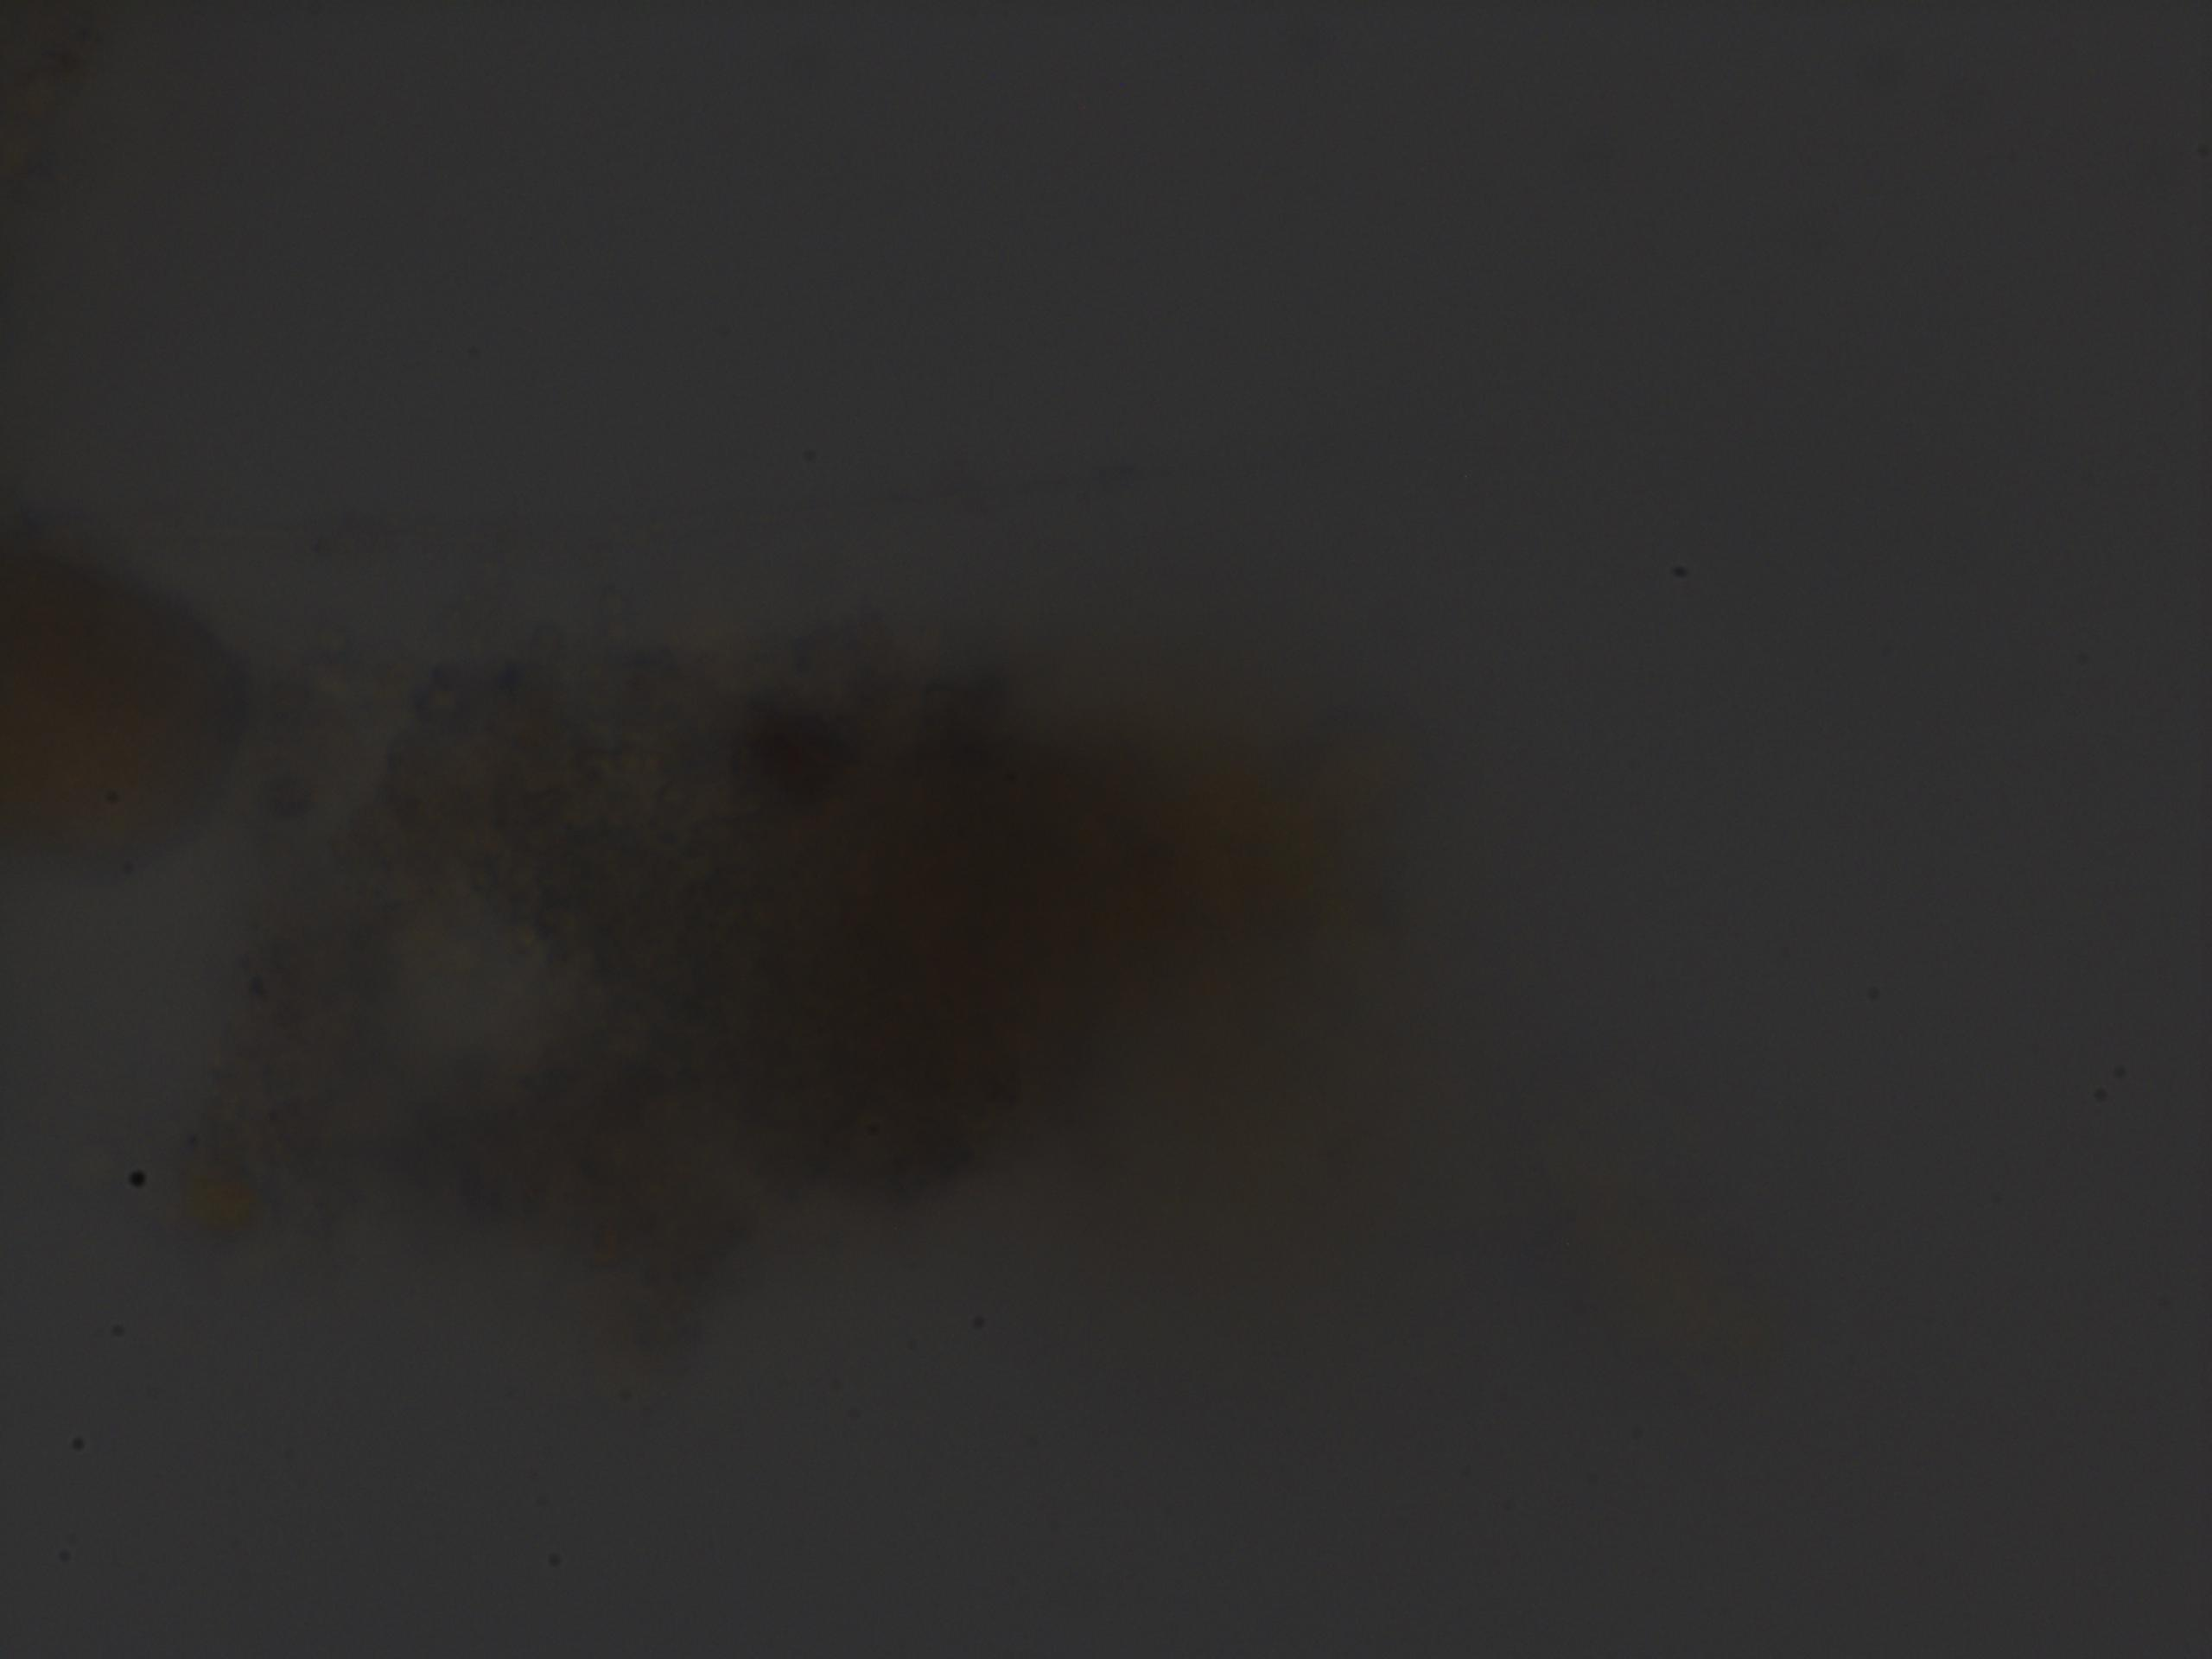spherical_floc: (160, 589, 1381, 1305)
